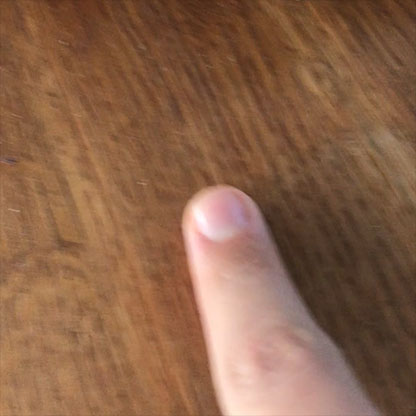fingertip: (164, 173, 286, 272)
